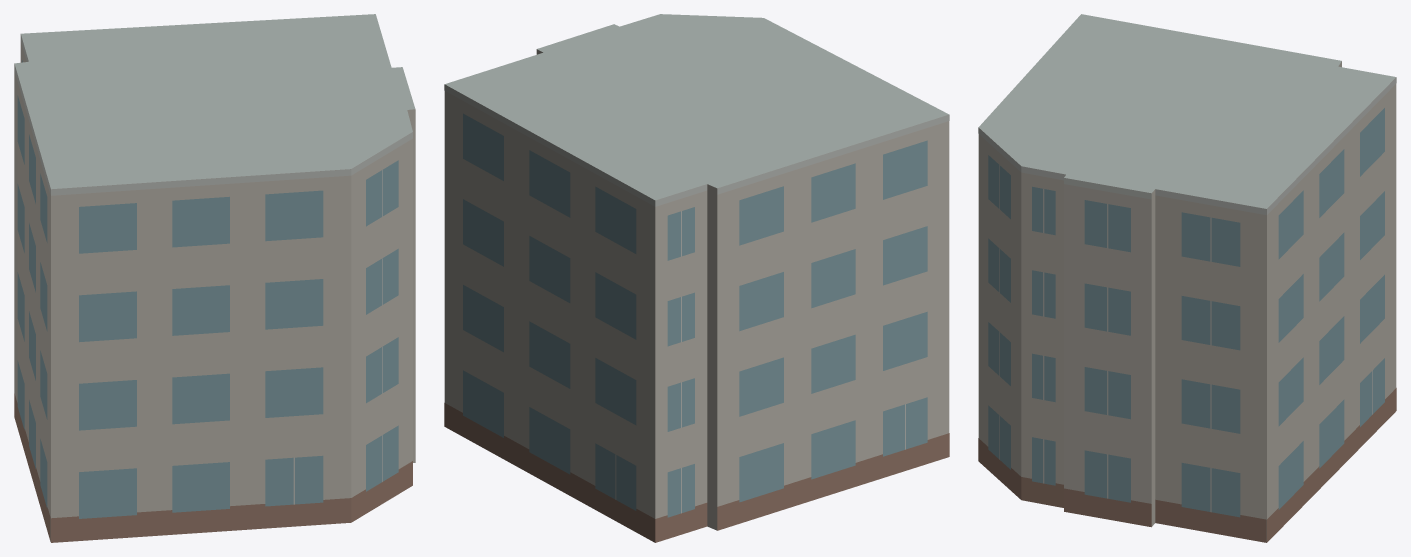
The model's file is survey-upis-32927545.glb.
3 renders of one model, left to right at view 1: azimuth 30°, elevation 25°; view 2: azimuth 150°, elevation 25°; view 3: azimuth 270°, elevation 25°, orthographic. The views are drawn at different scales.
Parts seen in each view (by area): view 1: survey-upis-32927545.tmp; view 2: survey-upis-32927545.tmp; view 3: survey-upis-32927545.tmp.
Part boxes in pixels (left/top/right/bottom): survey-upis-32927545.tmp: left=14, top=14, right=415, bottom=542; survey-upis-32927545.tmp: left=444, top=14, right=949, bottom=542; survey-upis-32927545.tmp: left=978, top=14, right=1396, bottom=542.
Bounding box in the file's own units: 16.33 × 13.03 × 14.79.
